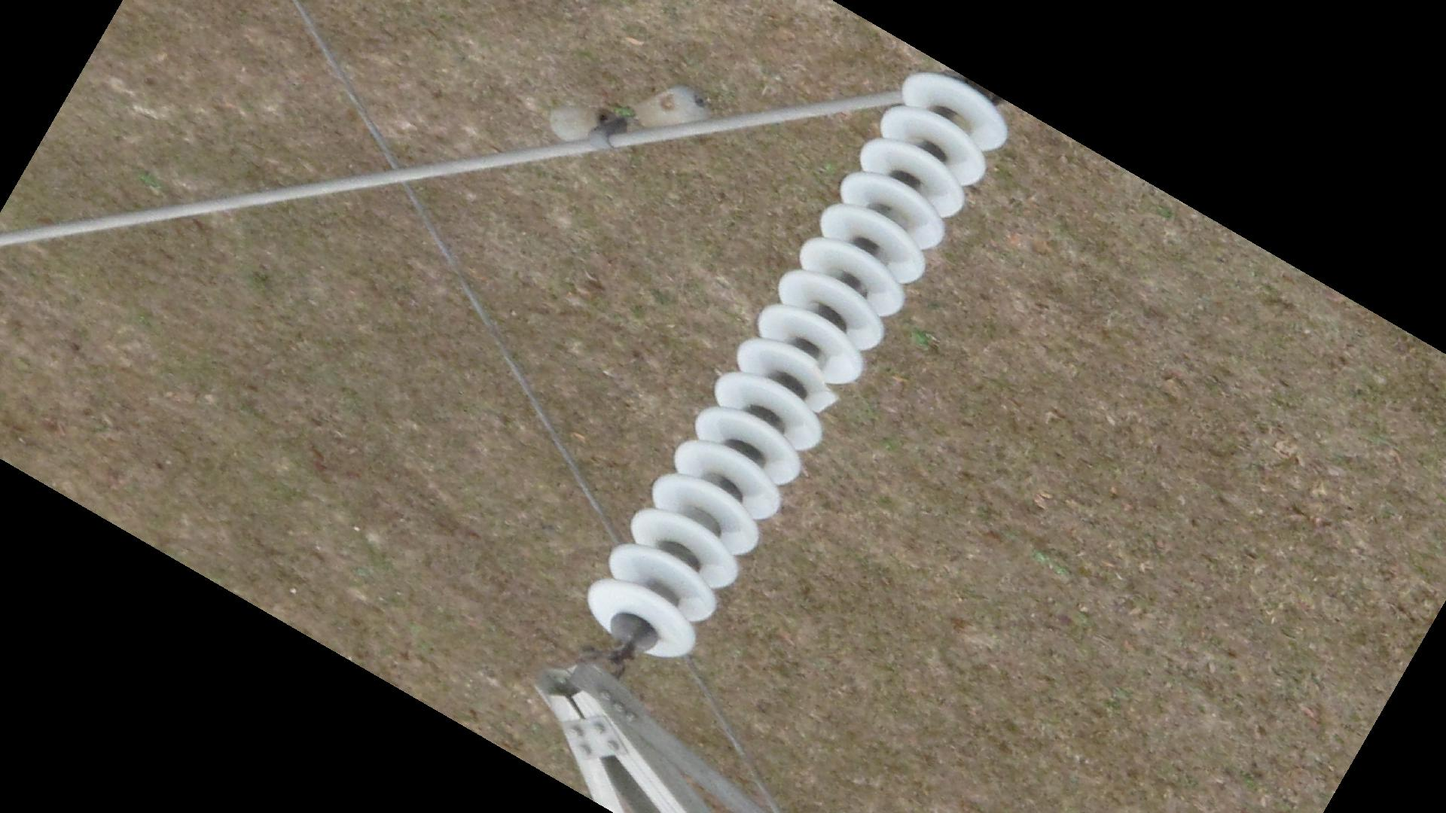insulator: (584, 69, 1014, 665)
insulator_breakage: (807, 353, 842, 417)
